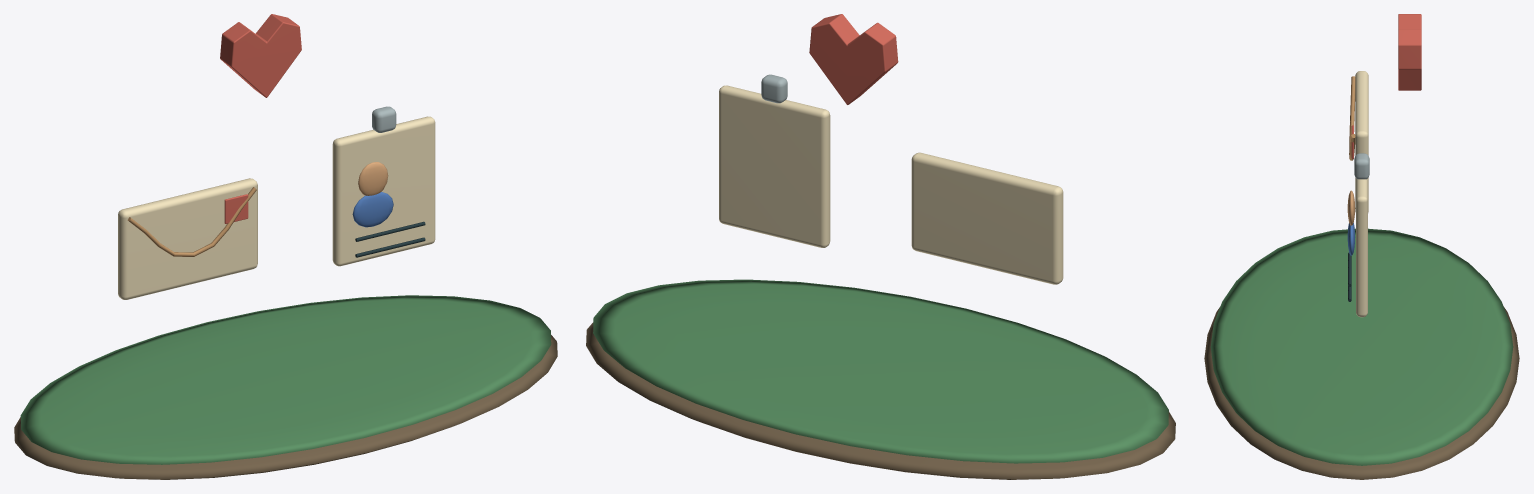
The model's file is complete-third-trusted-duty.glb.
3 views of the same model, side by side, from view 1: azimuth 30°, elevation 25°; view 2: azimuth 150°, elevation 25°; view 3: azimuth 270°, elevation 25° (orthographic). The views are drawn at different scales.
Visible parts, largest first — view 1: complete-third-trusted-duty_surface_01, complete-third-trusted-duty_surface_02, complete-third-trusted-duty_surface_00, complete-third-trusted-duty_surface_04, complete-third-trusted-duty_surface_07, complete-third-trusted-duty_surface_06, complete-third-trusted-duty_surface_03, complete-third-trusted-duty_surface_08, complete-third-trusted-duty_surface_05; view 2: complete-third-trusted-duty_surface_01, complete-third-trusted-duty_surface_02, complete-third-trusted-duty_surface_00, complete-third-trusted-duty_surface_04, complete-third-trusted-duty_surface_05; view 3: complete-third-trusted-duty_surface_01, complete-third-trusted-duty_surface_00, complete-third-trusted-duty_surface_02, complete-third-trusted-duty_surface_04, complete-third-trusted-duty_surface_03, complete-third-trusted-duty_surface_05.
Part boxes in pixels (x1=…): complete-third-trusted-duty_surface_01: x1=20, y1=295, x2=551, y2=464; complete-third-trusted-duty_surface_02: x1=118, y1=116, x2=435, y2=299; complete-third-trusted-duty_surface_00: x1=14, y1=335, x2=557, y2=479; complete-third-trusted-duty_surface_04: x1=220, y1=14, x2=301, y2=223; complete-third-trusted-duty_surface_07: x1=352, y1=192, x2=393, y2=227; complete-third-trusted-duty_surface_06: x1=358, y1=162, x2=388, y2=195; complete-third-trusted-duty_surface_03: x1=127, y1=187, x2=256, y2=256; complete-third-trusted-duty_surface_08: x1=355, y1=221, x2=425, y2=257; complete-third-trusted-duty_surface_05: x1=372, y1=106, x2=396, y2=132; complete-third-trusted-duty_surface_01: x1=593, y1=279, x2=1168, y2=463; complete-third-trusted-duty_surface_02: x1=719, y1=85, x2=1063, y2=284; complete-third-trusted-duty_surface_00: x1=586, y1=322, x2=1175, y2=479; complete-third-trusted-duty_surface_04: x1=809, y1=14, x2=898, y2=104; complete-third-trusted-duty_surface_05: x1=761, y1=74, x2=787, y2=103; complete-third-trusted-duty_surface_01: x1=1210, y1=228, x2=1513, y2=465; complete-third-trusted-duty_surface_00: x1=1204, y1=307, x2=1519, y2=479; complete-third-trusted-duty_surface_02: x1=1355, y1=71, x2=1368, y2=317; complete-third-trusted-duty_surface_04: x1=1351, y1=14, x2=1421, y2=158; complete-third-trusted-duty_surface_03: x1=1349, y1=76, x2=1355, y2=160; complete-third-trusted-duty_surface_05: x1=1354, y1=153, x2=1369, y2=179.
Bounding box in the file's own units: 4.56 × 3.07 × 2.5.
